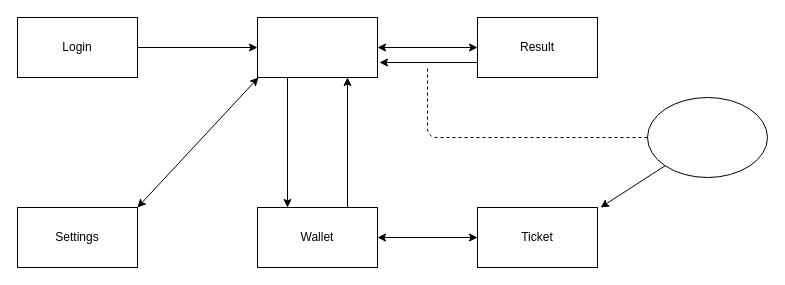
Image size: 785x285. Some labels were removed from this diagram. Each missing label, with the box of its shape:
Main (Search): (256, 16, 378, 78)
Notification (Ticket added): (646, 96, 768, 178)
